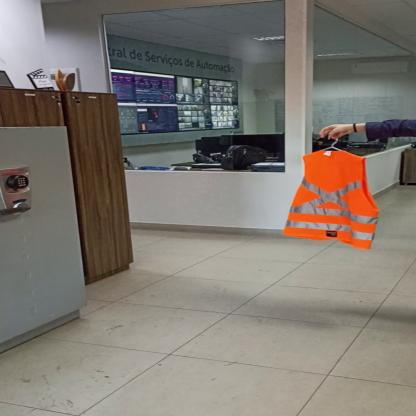colete: (278, 148, 384, 251)
